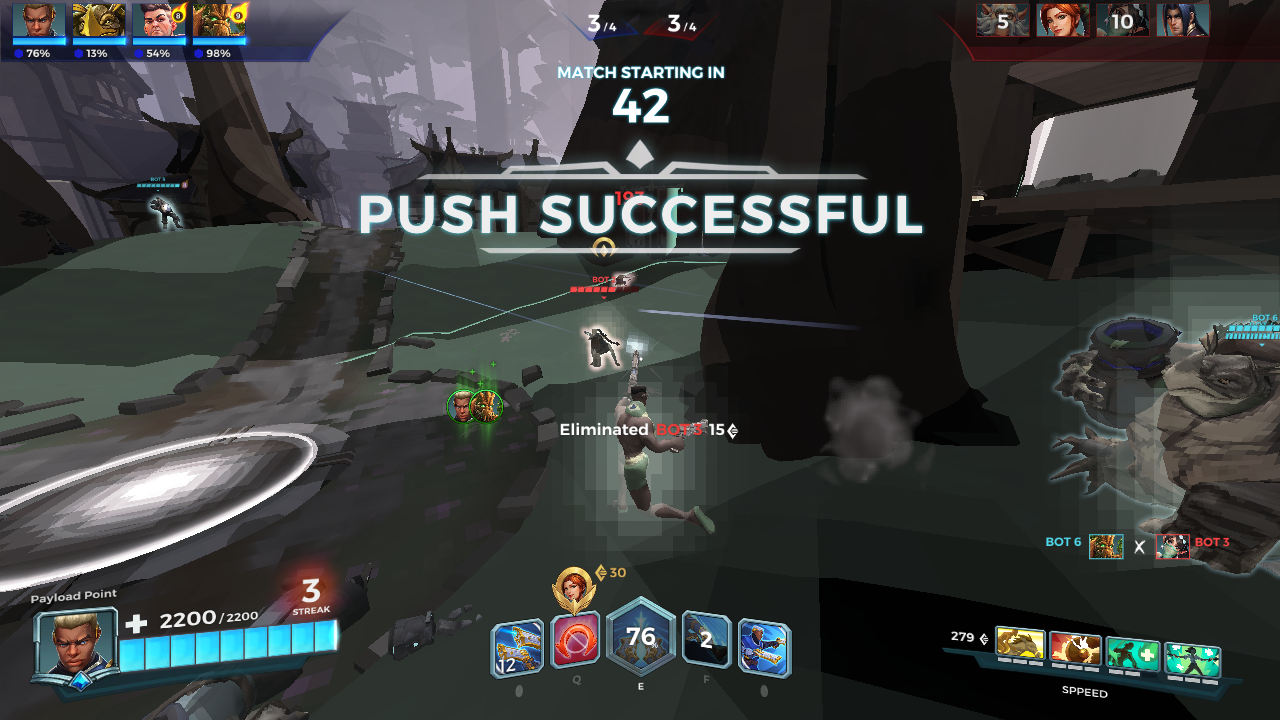model: (581, 322, 619, 370)
